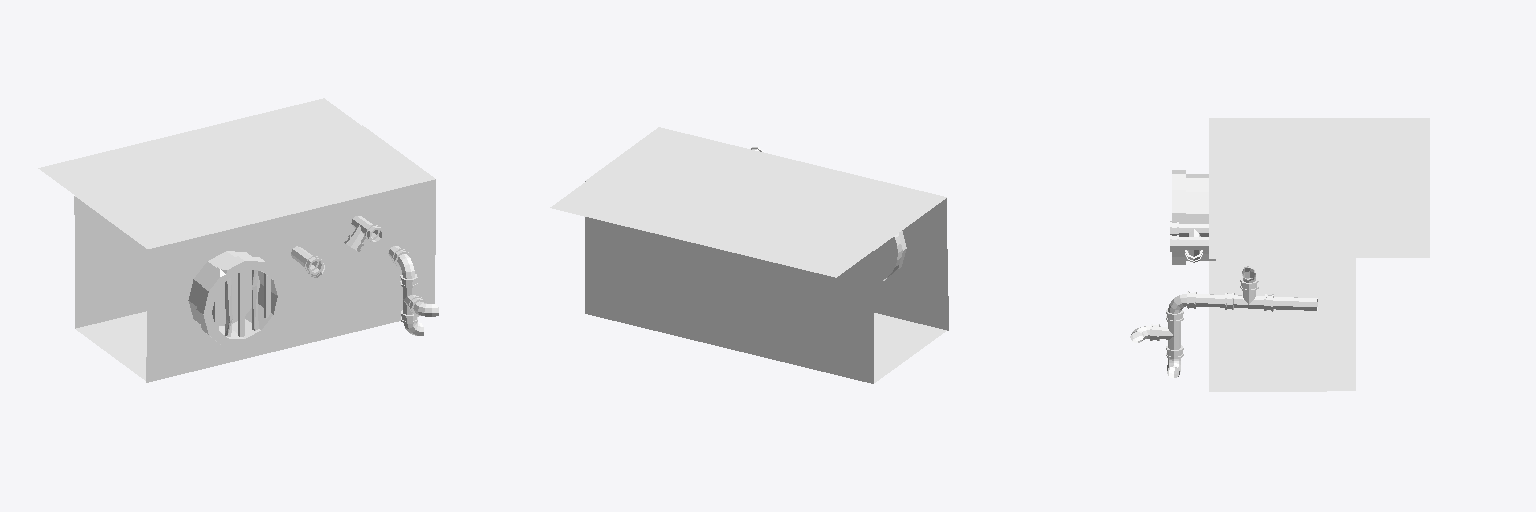
Rendered from road_hole_left.obj.
The picture shows the model from 3 angles: view 1: azimuth 30°, elevation 25°; view 2: azimuth 150°, elevation 25°; view 3: azimuth 270°, elevation 25°; orthographic projection.
Parts seen in each view (by area): view 1: Cube.001_Cube.002, SM_Env_Road_YellowLines_02_Mesh.001_SM_Env_Road_YellowLines_02_, SM_Env_Road_YellowLines_02_Mesh.002, SM_Env_Road_03_Mesh.001, SM_Env_WaterEdge_Pipe_01_Mesh.007, SM_Prop_Pipe_Present_03_Mesh, SM_Prop_Pipe_Part_T_01.001_Mesh.010, SM_Prop_Pipe_Part_T_01_Mesh.006; view 2: Cube.001_Cube.002, SM_Env_Road_03_Mesh.001, SM_Env_Road_YellowLines_02_Mesh.001_SM_Env_Road_YellowLines_02_, SM_Env_Road_YellowLines_02_Mesh.002; view 3: Cube.001_Cube.002, SM_Env_Road_YellowLines_02_Mesh.002, SM_Env_Road_YellowLines_02_Mesh.001_SM_Env_Road_YellowLines_02_, SM_Env_Road_03_Mesh.001, SM_Prop_Pipe_Present_03_Mesh, SM_Env_WaterEdge_Pipe_01_Mesh.007, SM_Prop_Pipe_Part_T_01.001_Mesh.010.
Part boxes in pixels (bbox=[...]): Cube.001_Cube.002: bbox=[74, 125, 435, 382]; SM_Env_Road_YellowLines_02_Mesh.001_SM_Env_Road_YellowLines_02_: bbox=[38, 145, 242, 248]; SM_Env_Road_YellowLines_02_Mesh.002: bbox=[229, 98, 433, 201]; SM_Env_Road_03_Mesh.001: bbox=[134, 122, 337, 225]; SM_Env_WaterEdge_Pipe_01_Mesh.007: bbox=[188, 251, 285, 347]; SM_Prop_Pipe_Present_03_Mesh: bbox=[388, 246, 438, 335]; SM_Prop_Pipe_Part_T_01.001_Mesh.010: bbox=[344, 216, 383, 251]; SM_Prop_Pipe_Part_T_01_Mesh.006: bbox=[291, 246, 324, 277]; Cube.001_Cube.002: bbox=[585, 127, 948, 383]; SM_Env_Road_03_Mesh.001: bbox=[646, 151, 849, 253]; SM_Env_Road_YellowLines_02_Mesh.001_SM_Env_Road_YellowLines_02_: bbox=[741, 174, 945, 277]; SM_Env_Road_YellowLines_02_Mesh.002: bbox=[550, 127, 754, 230]; Cube.001_Cube.002: bbox=[1209, 258, 1355, 391]; SM_Env_Road_YellowLines_02_Mesh.002: bbox=[1209, 211, 1429, 257]; SM_Env_Road_YellowLines_02_Mesh.001_SM_Env_Road_YellowLines_02_: bbox=[1209, 118, 1429, 164]; SM_Env_Road_03_Mesh.001: bbox=[1209, 165, 1429, 210]; SM_Prop_Pipe_Present_03_Mesh: bbox=[1130, 266, 1317, 378]; SM_Env_WaterEdge_Pipe_01_Mesh.007: bbox=[1172, 170, 1215, 264]; SM_Prop_Pipe_Part_T_01.001_Mesh.010: bbox=[1170, 235, 1208, 262].
Size of the model in its own units: 0.0763 by 0.034 by 0.068.